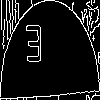E: (25, 24, 43, 71)
